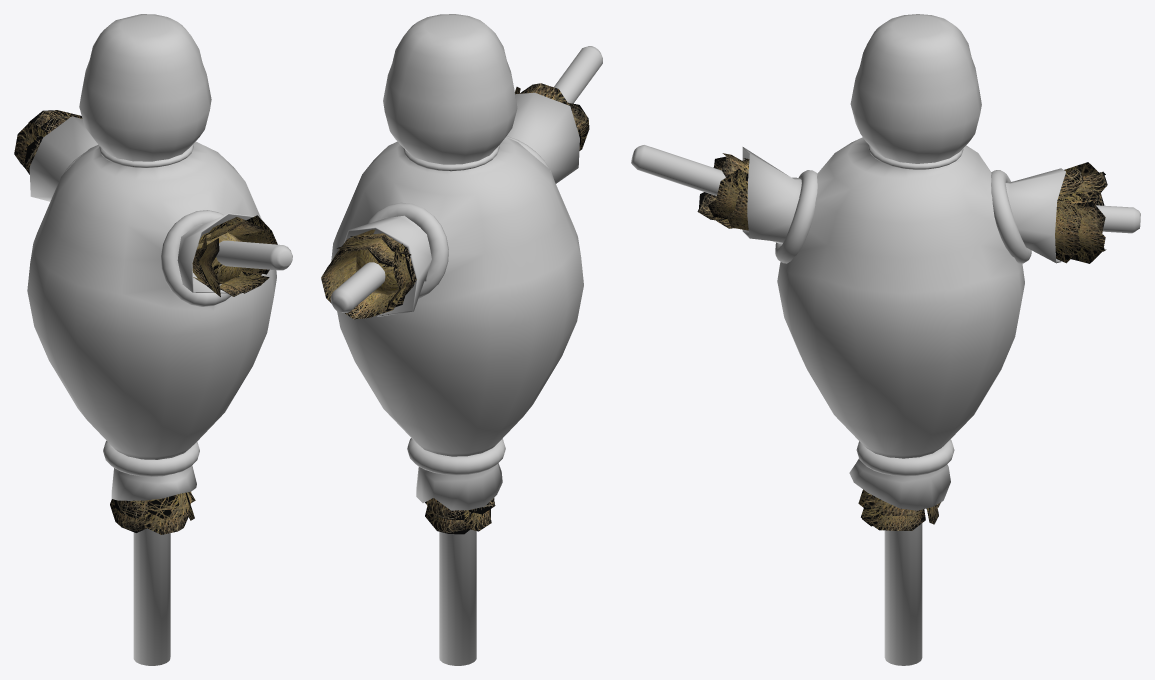
File: SM_TrainingDummy_2.FBX
3 renders of one model, left to right at view 1: azimuth 30°, elevation 25°; view 2: azimuth 150°, elevation 25°; view 3: azimuth 270°, elevation 25°, orthographic.
Parts seen in each view (by area): view 1: SM_TrainingDummy_2; view 2: SM_TrainingDummy_2; view 3: SM_TrainingDummy_2.
Boxes of the visible parts, x1,y1,x2,y2 form: SM_TrainingDummy_2: (14, 14, 292, 665); SM_TrainingDummy_2: (321, 14, 602, 665); SM_TrainingDummy_2: (631, 14, 1140, 665).
Size of what is drawn, in the model's own units: 59.92 by 120 by 164.
